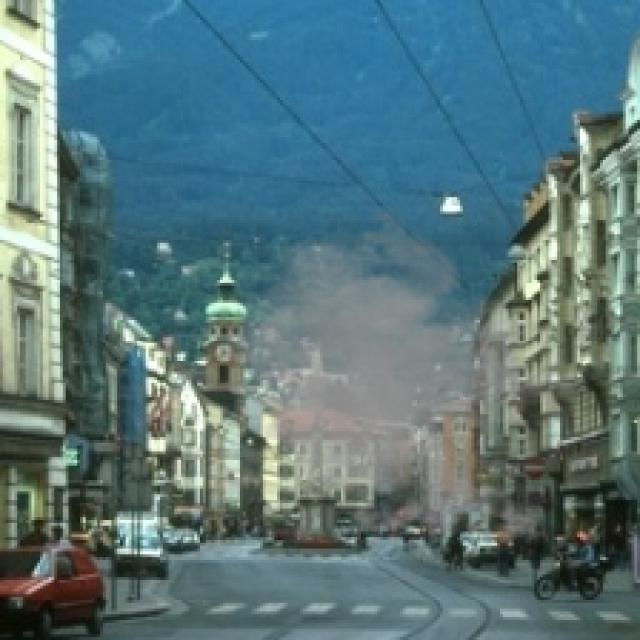smoke: (208, 206, 608, 554)
